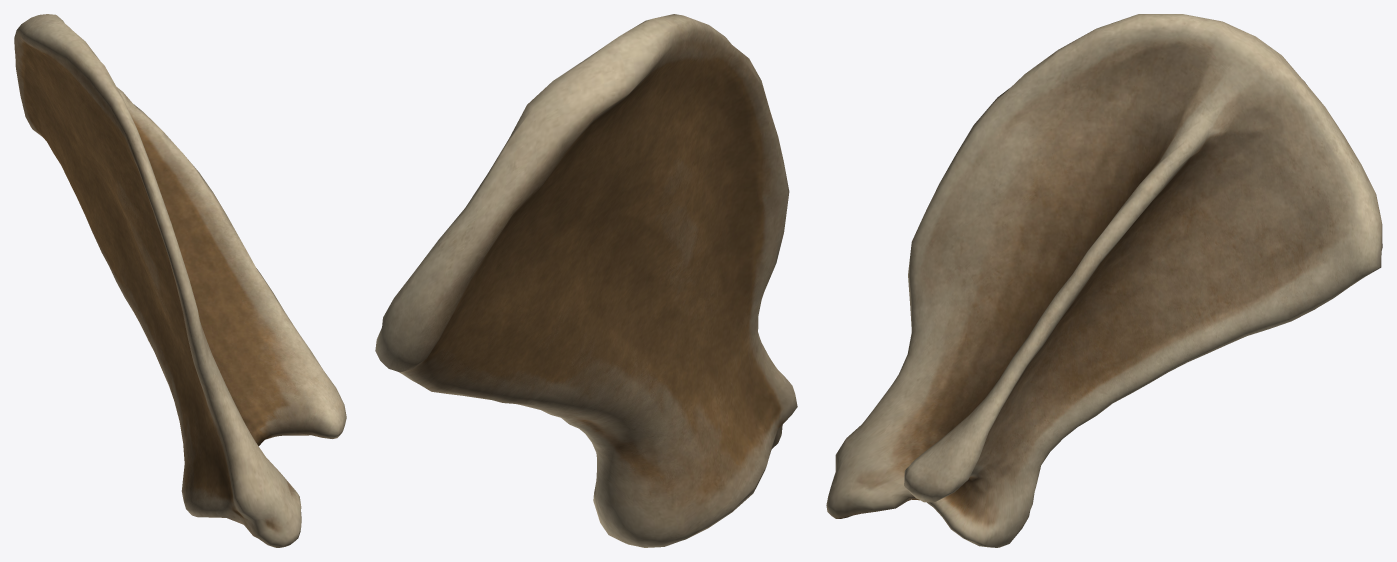
File: Scapula.glb
3 views of the same model, side by side, from view 1: azimuth 30°, elevation 25°; view 2: azimuth 150°, elevation 25°; view 3: azimuth 270°, elevation 25° (orthographic). The views are drawn at different scales.
Parts seen in each view (by area): view 1: Scapula_Left1:Group16601; view 2: Scapula_Left1:Group16601; view 3: Scapula_Left1:Group16601.
Boxes of the visible parts, left/top/right/bottom form: Scapula_Left1:Group16601: left=14, top=14, right=346, bottom=547; Scapula_Left1:Group16601: left=375, top=14, right=797, bottom=547; Scapula_Left1:Group16601: left=826, top=14, right=1382, bottom=547.
Size of the model in its own units: 34.33 by 73.59 by 76.65.
Materials: 1 (1 with a texture image).
